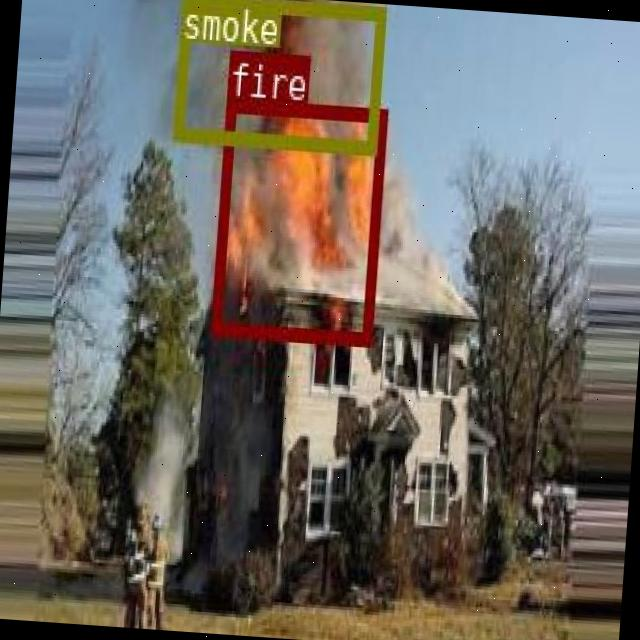fire: (210, 98, 386, 344)
smoke: (171, 0, 384, 152)
